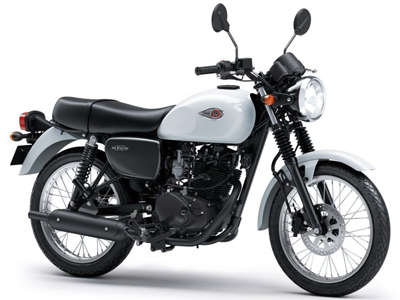motorcycle: (19, 54, 388, 297)
